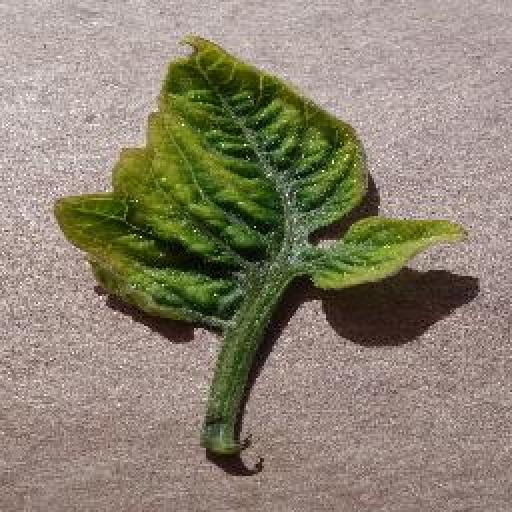Yellow Leaf Curl Virus: (53, 32, 468, 332)
